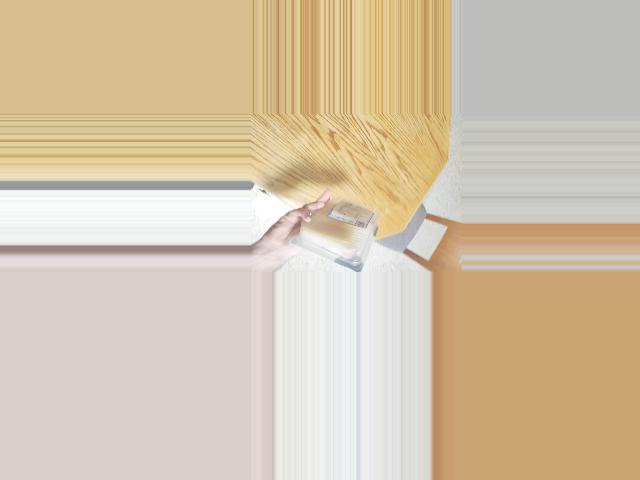cheese: (299, 199, 378, 266)
